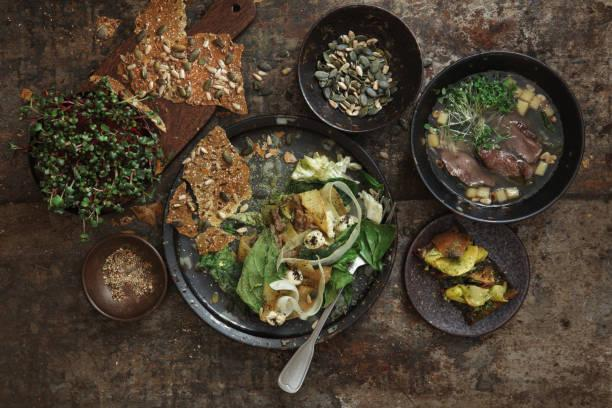Braised Crucian Carp: (160, 112, 390, 348), (409, 51, 582, 223), (402, 212, 530, 337)
